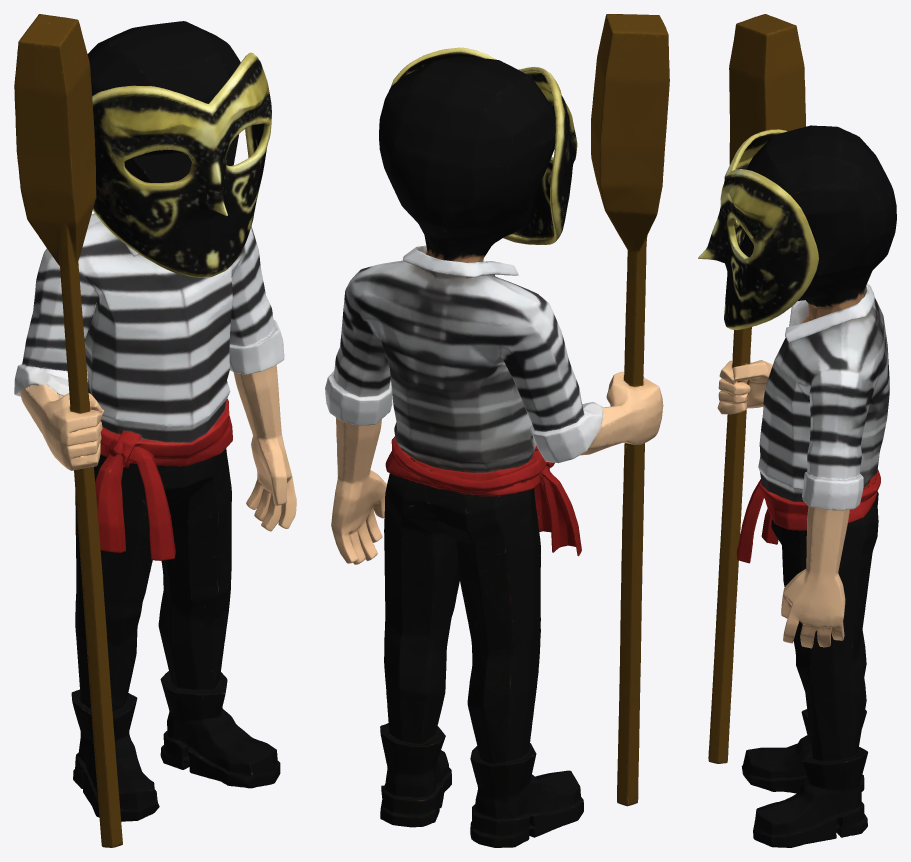
Rendered from gondolier-hero.glb.
3 renders of one model, left to right at view 1: azimuth 30°, elevation 25°; view 2: azimuth 150°, elevation 25°; view 3: azimuth 270°, elevation 25°, orthographic. The views are drawn at different scales.
Visible parts, largest first — view 1: world; view 2: world; view 3: world.
Part boxes in pixels (x1,y1,x2,y2): world: [14, 14, 296, 847]; world: [325, 14, 669, 847]; world: [698, 14, 896, 847].
Size of the model in its own units: 0.3904 by 1 by 0.2494.
Materials: 1 (1 with a texture image).
